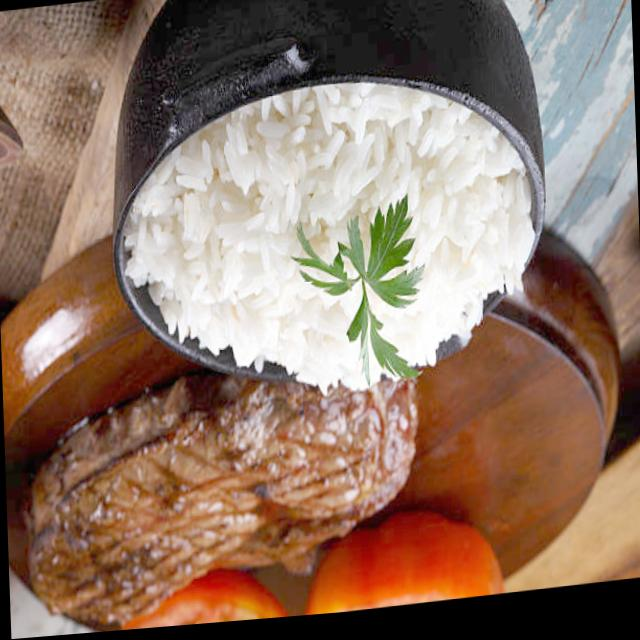rice: (118, 63, 536, 419)
